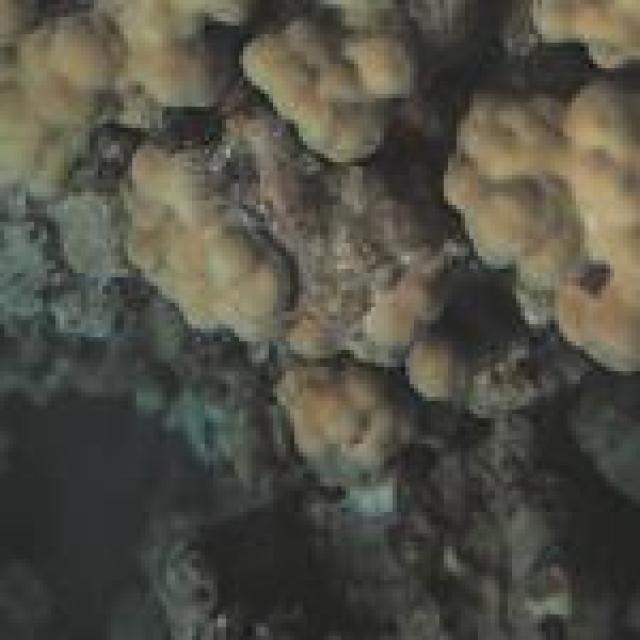Healthy Coral: (440, 74, 640, 340), (0, 0, 237, 181), (127, 151, 327, 343), (256, 0, 404, 184), (267, 382, 425, 491), (536, 4, 640, 64)
